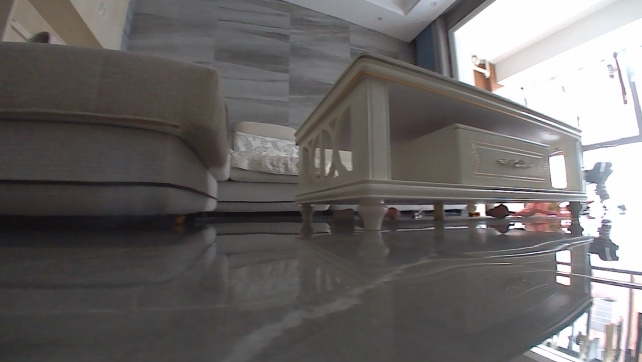sofa: (0, 34, 300, 228)
tea_table: (292, 41, 593, 230)
